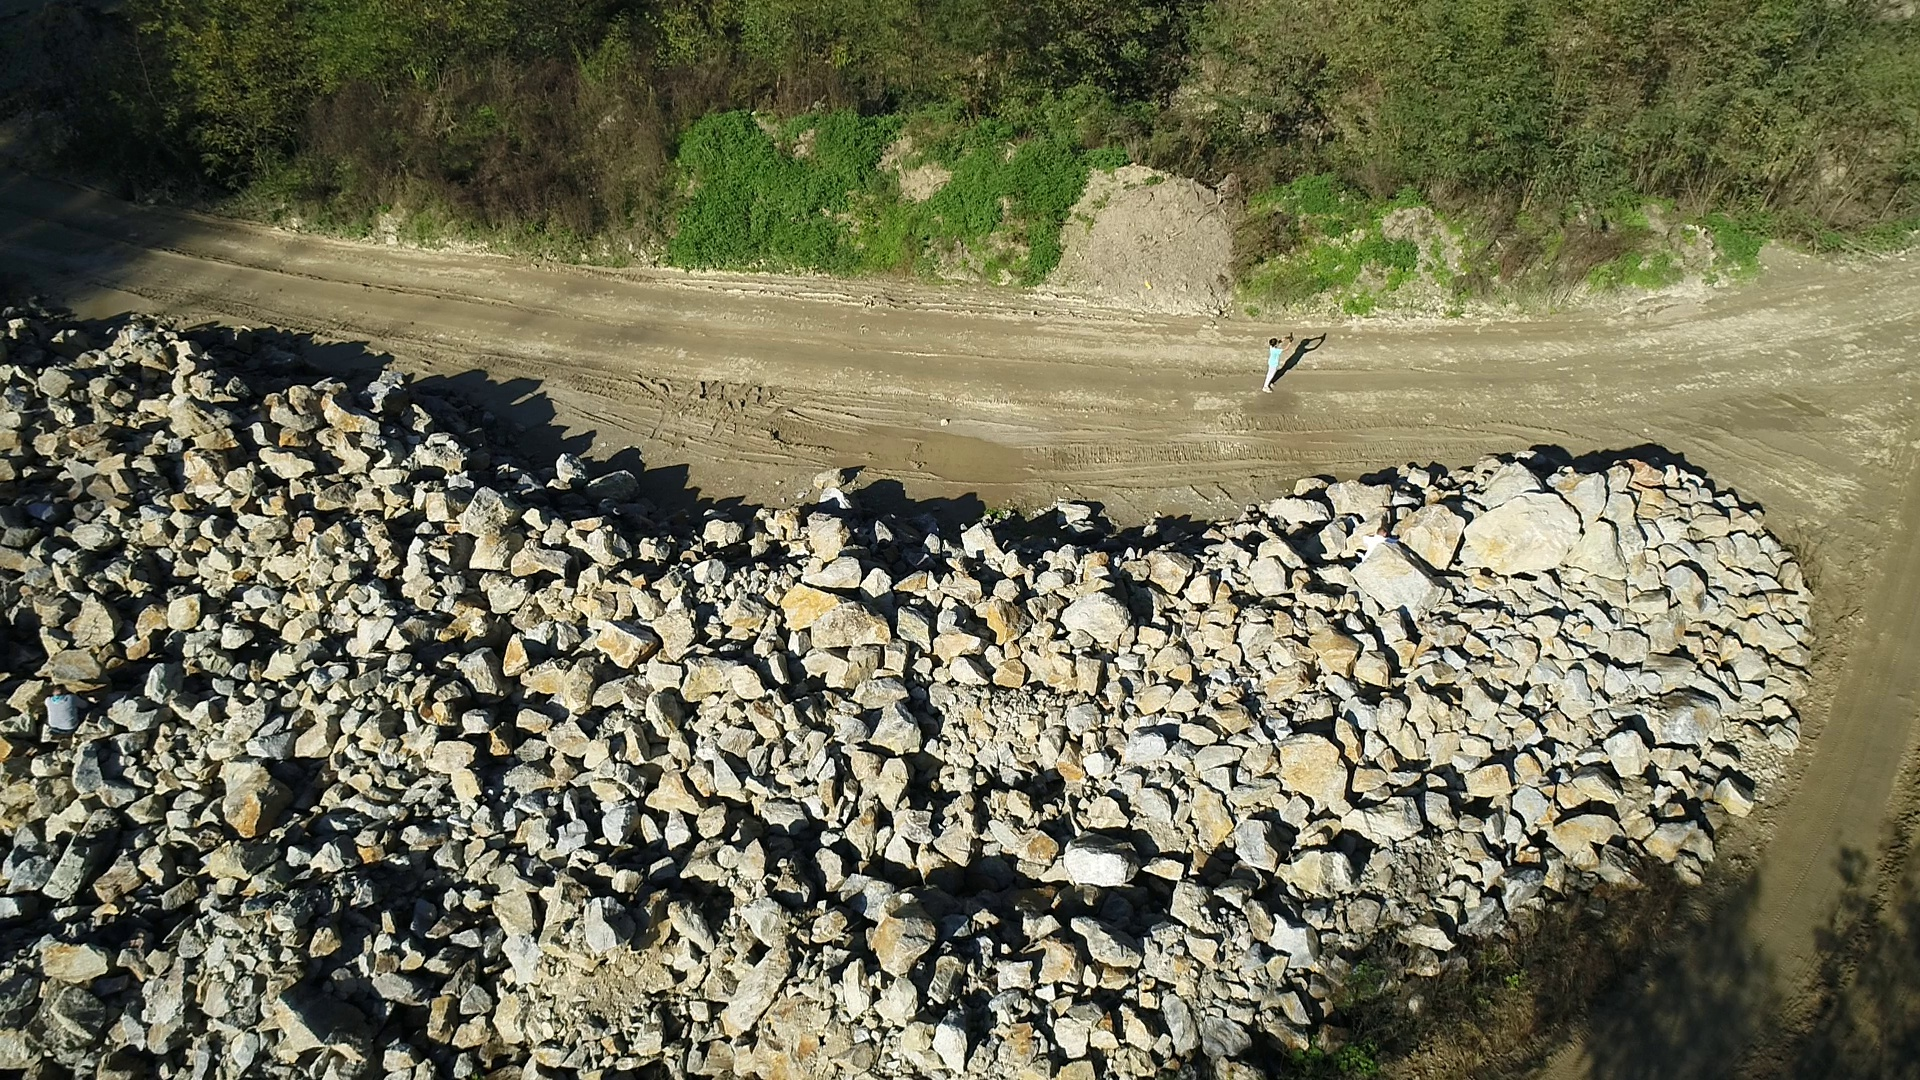not_defined: (1352, 526, 1415, 570)
person: (45, 683, 89, 735), (1261, 329, 1295, 393)
